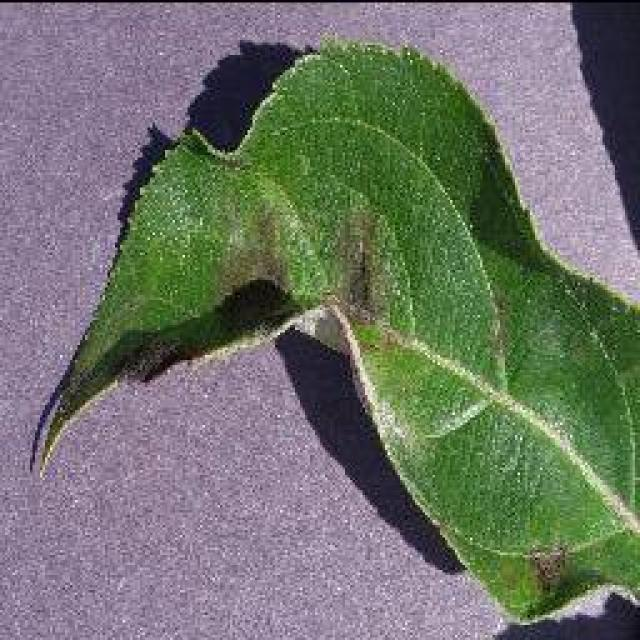apple scab disease: (25, 35, 637, 627)
